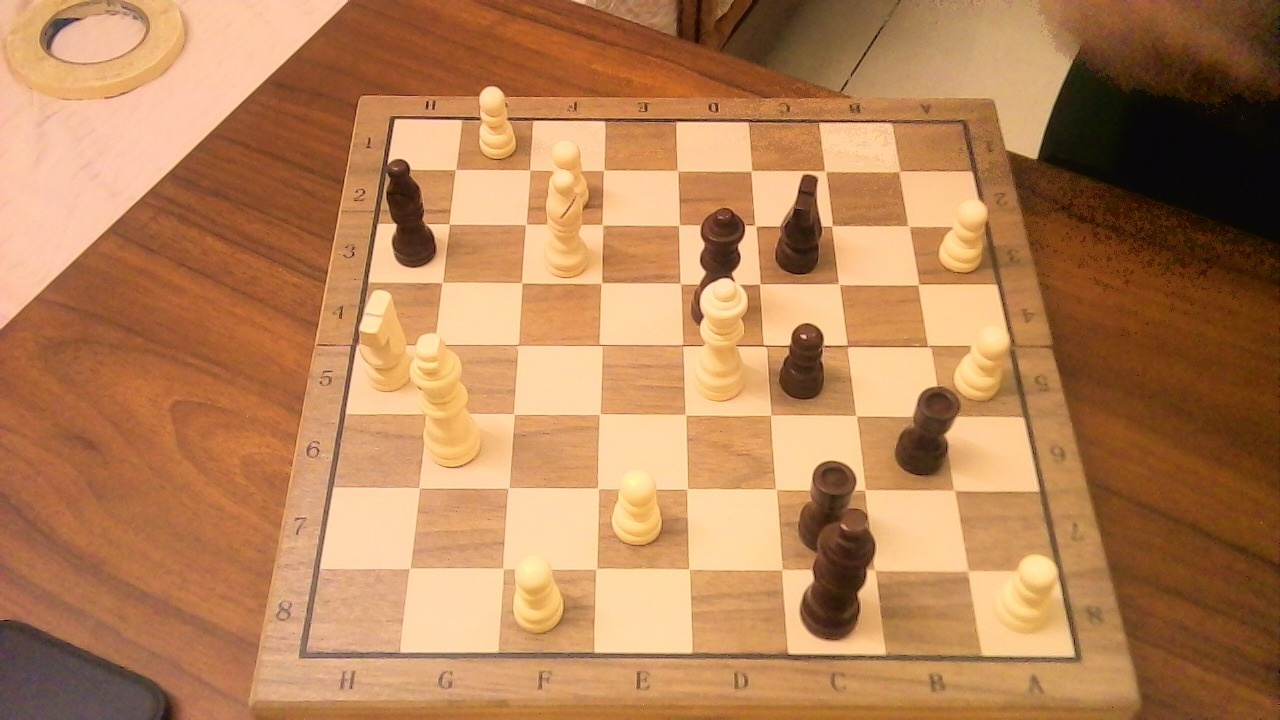B: (532, 160, 597, 281)
K: (407, 321, 492, 472)
N: (351, 319, 417, 397)
P: (989, 544, 1068, 638), (504, 544, 572, 638), (949, 316, 1018, 403), (604, 459, 668, 549), (932, 190, 996, 275), (468, 78, 522, 162), (539, 132, 594, 214)
Q: (688, 265, 759, 407)
b: (379, 147, 443, 272)
k: (793, 493, 889, 646)
n: (769, 160, 834, 278)
p: (775, 314, 837, 404)
q: (687, 196, 759, 329)
r: (888, 372, 970, 480), (791, 448, 868, 557)
